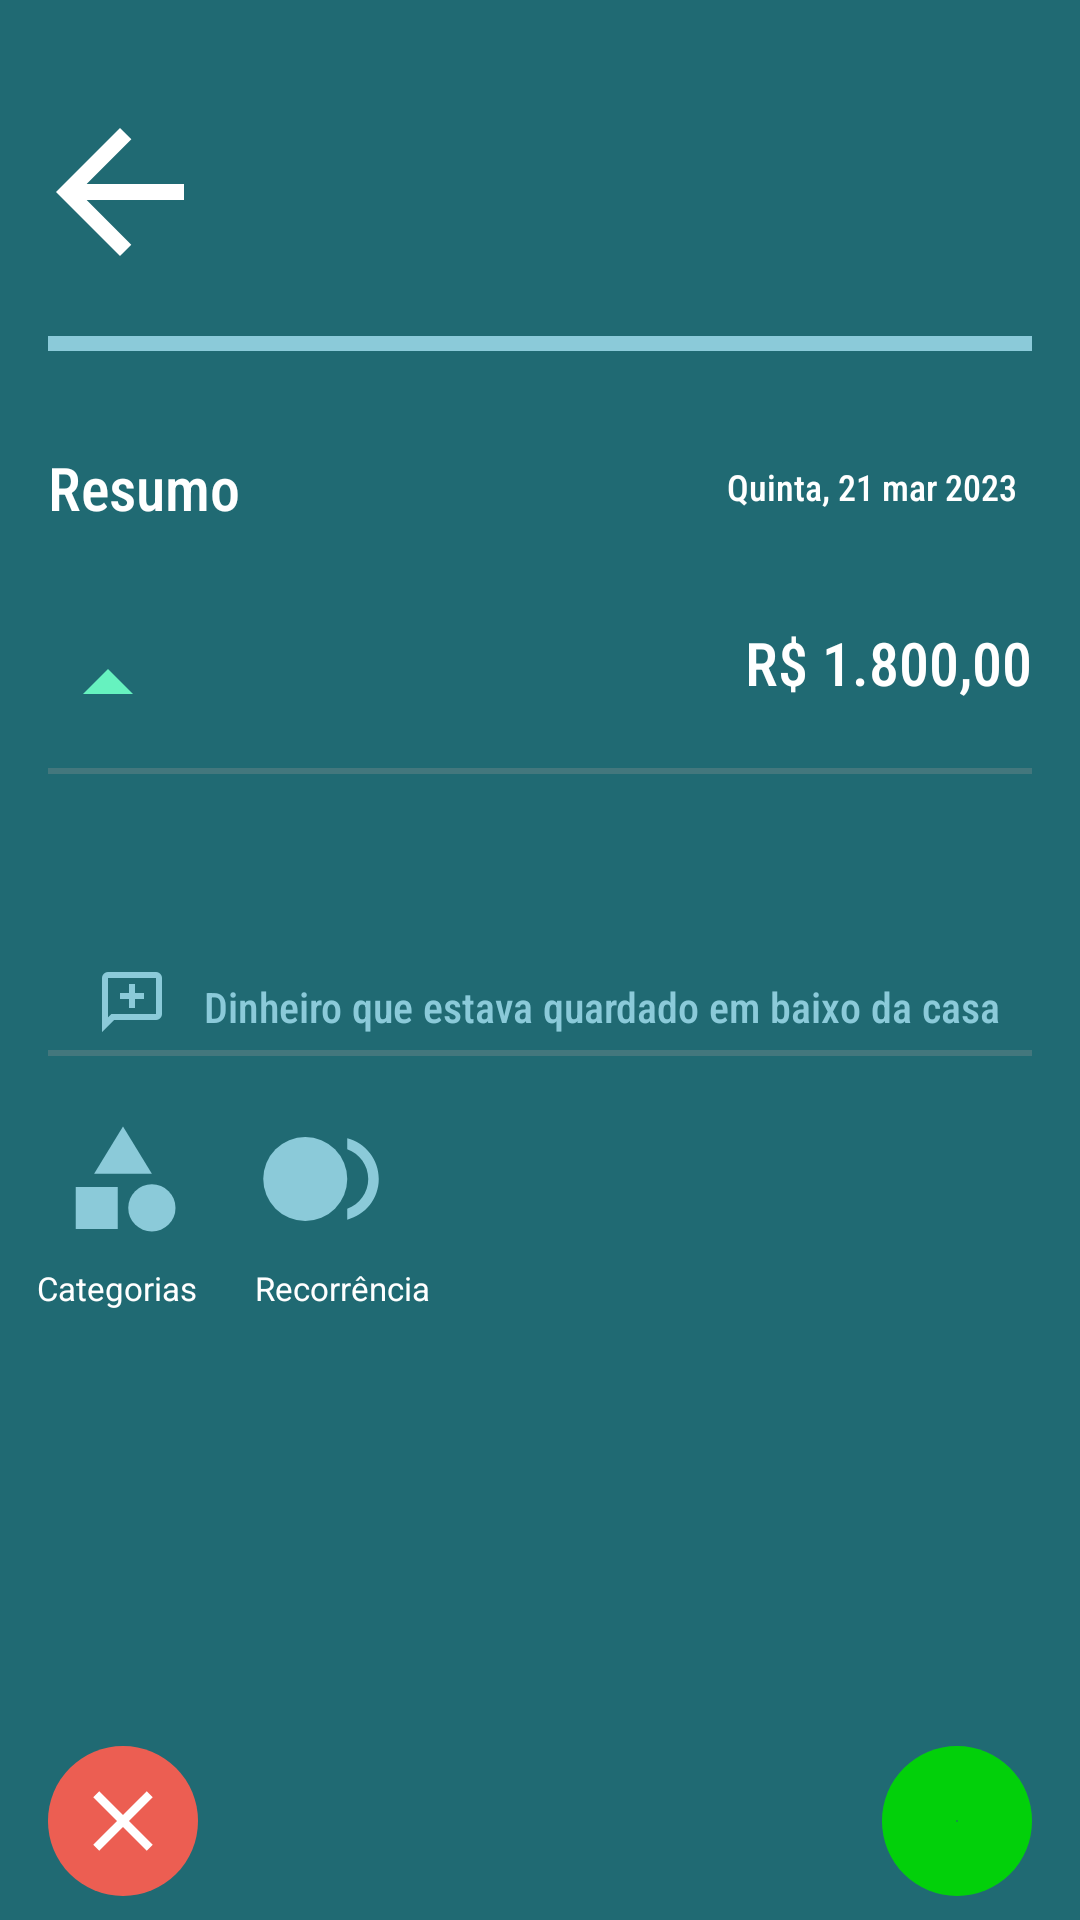

Screen size 1080*1920. Icon name, then its center in pixels as point (x, y):
add comment: point (132, 1002)
Ao acionado, finaliza a view: point (123, 1821)
arrow back: point (120, 192)
arrow drop up: point (108, 681)
smart record: point (321, 1179)
